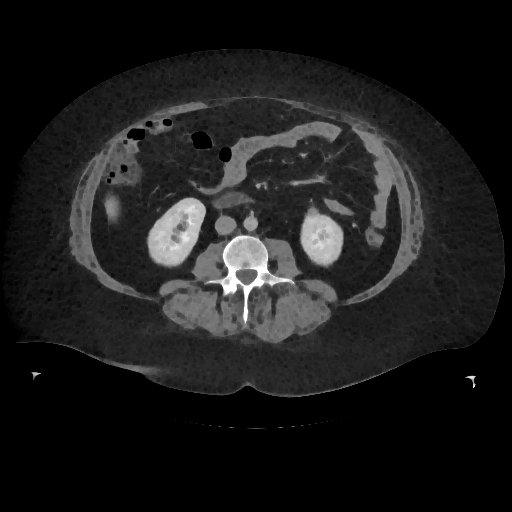Lesion: (304, 206, 320, 218)
